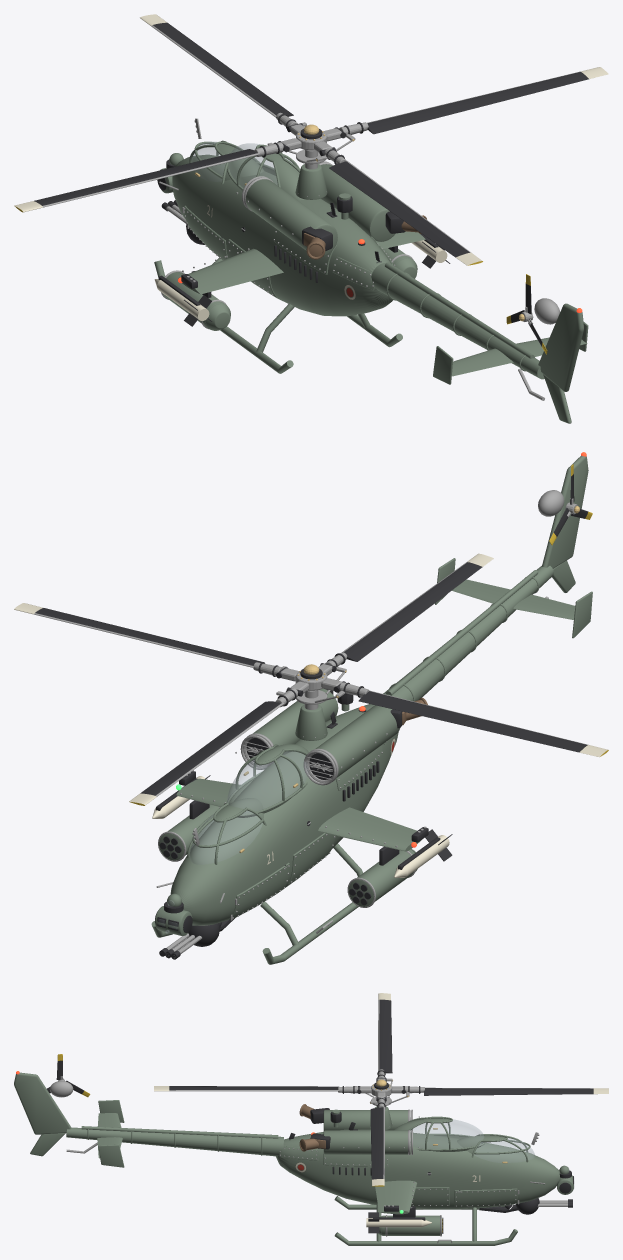
The model's file is gunship.glb.
3 renders of one model, top to bottom at view 1: azimuth 30°, elevation 25°; view 2: azimuth 150°, elevation 25°; view 3: azimuth 270°, elevation 25°, orthographic. The views are drawn at different scales.
Parts seen in each view (by area): view 1: body, rotor, tail_rotor; view 2: body, rotor; view 3: body, rotor.
Boxes of the visible parts, x1,y1,x2,y2 form: body: [154, 118, 588, 423]; rotor: [14, 14, 608, 265]; tail_rotor: [506, 274, 547, 354]; body: [151, 452, 592, 964]; rotor: [14, 553, 608, 805]; body: [14, 1071, 574, 1245]; rotor: [154, 993, 608, 1186].
Size of the model in its own units: 9.03 by 3.65 by 11.81.
